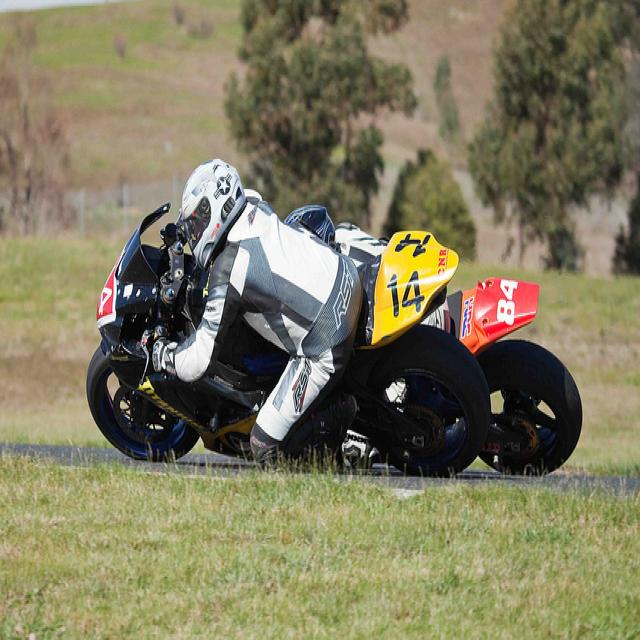motor: (87, 200, 586, 476)
